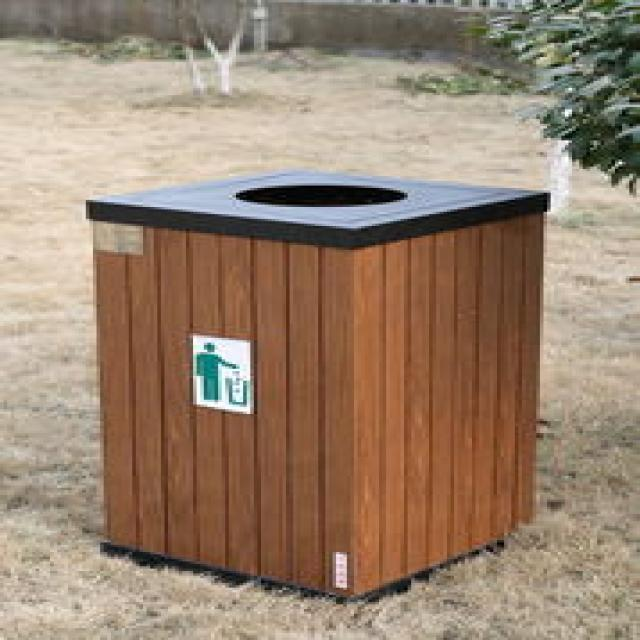garbage_bin: (82, 166, 547, 604)
